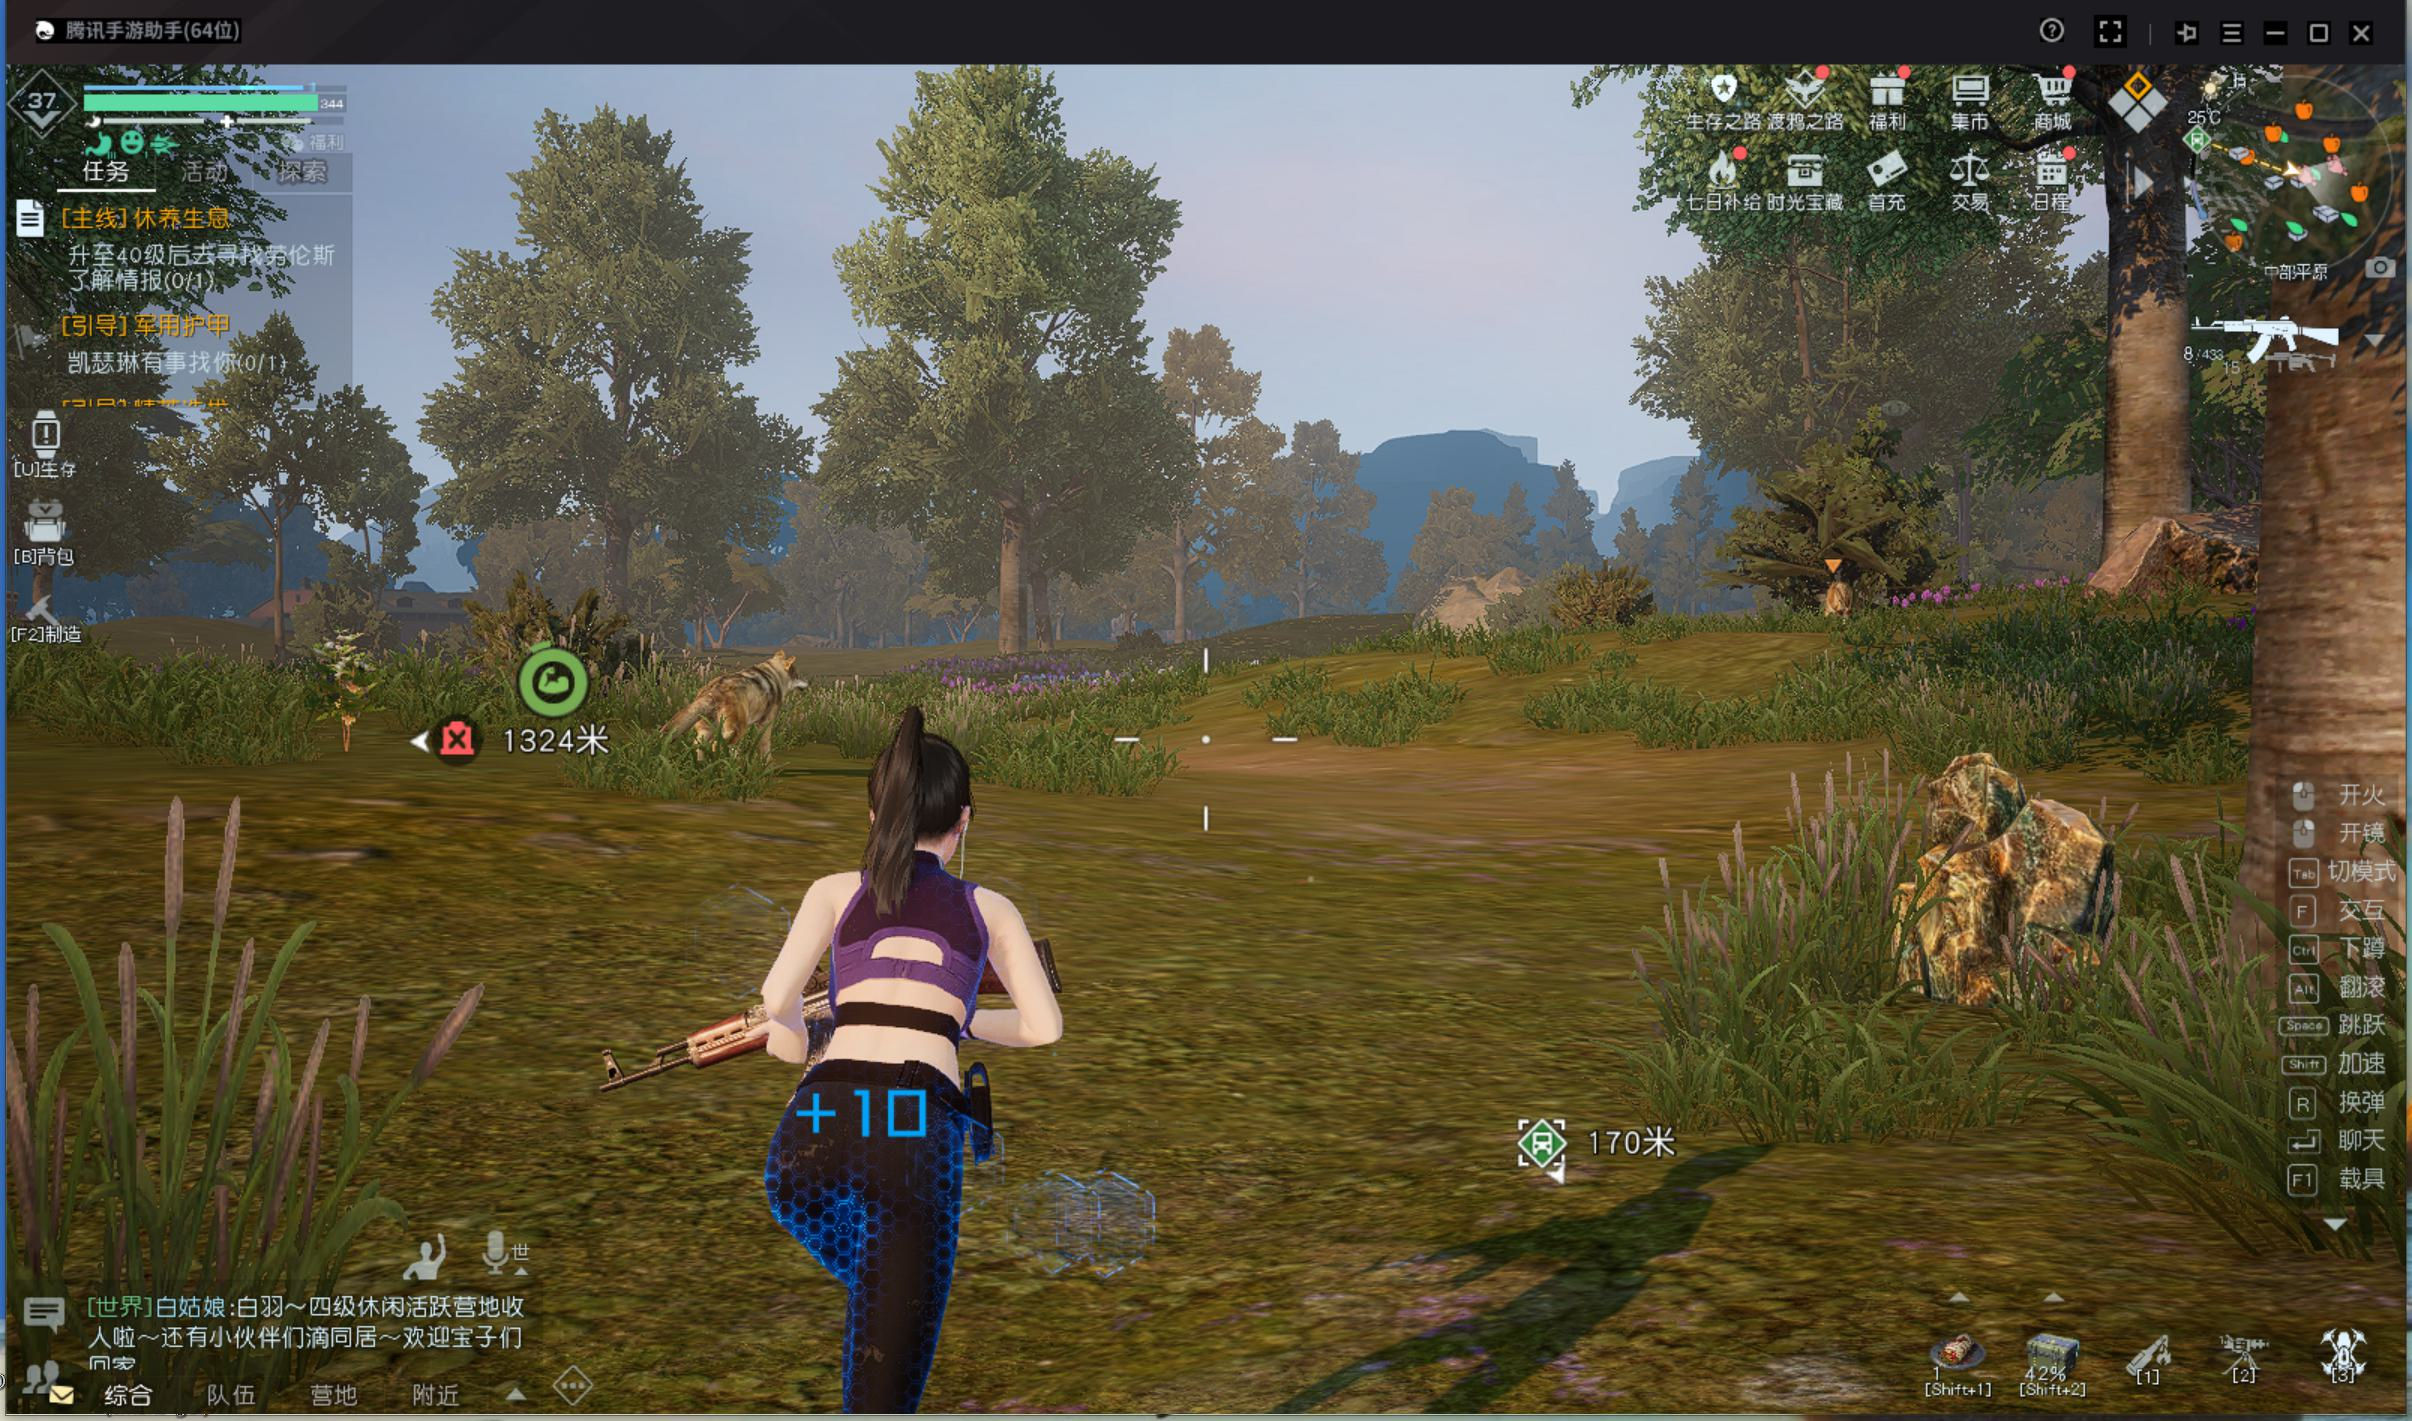stone: (1854, 717, 2131, 1012)
tree: (2087, 281, 2217, 587), (973, 475, 1045, 683), (582, 526, 644, 658), (1150, 529, 1204, 660), (260, 528, 293, 656)
